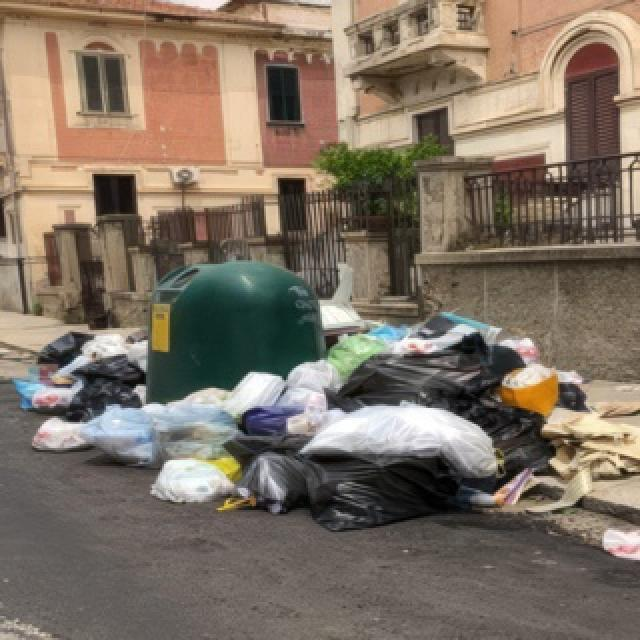high trash: (15, 312, 640, 530)
less trash: (602, 529, 640, 561)
